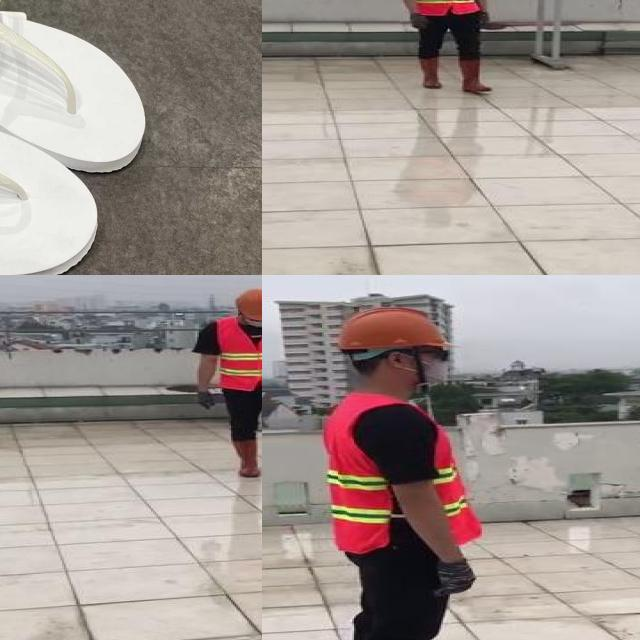Sandals: (0, 0, 176, 275)
boots: (458, 57, 496, 92), (228, 439, 262, 478), (416, 55, 446, 89)
face_mask: (402, 346, 457, 386)
hand_glove: (437, 555, 483, 602), (197, 390, 215, 410), (478, 12, 494, 30), (406, 20, 432, 30)
head_helmet: (331, 306, 453, 351), (234, 287, 262, 320)
person: (303, 295, 511, 640), (190, 288, 262, 484), (394, 0, 502, 96)
vest: (324, 388, 482, 554), (211, 314, 262, 391), (412, 0, 478, 16)
